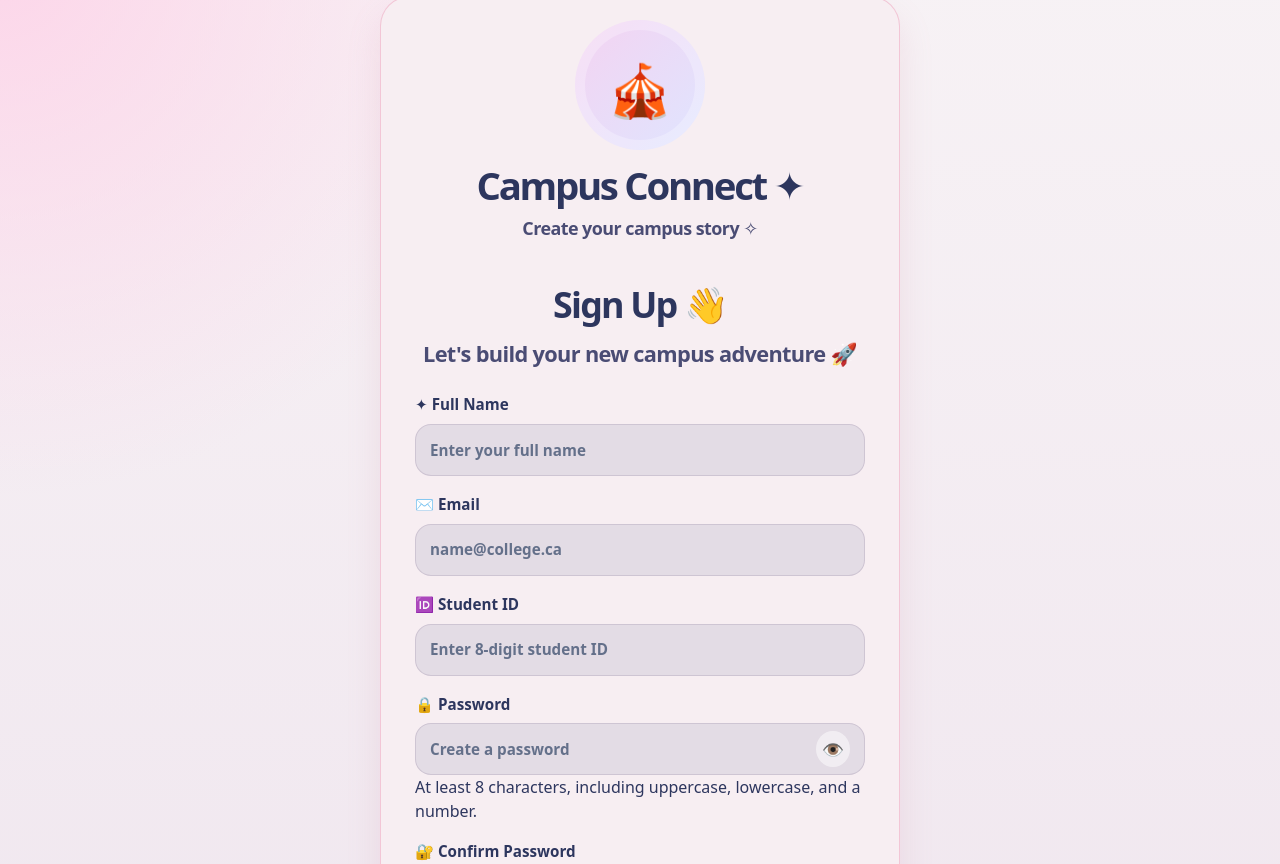
Test: SignUpPage › F3: registers a new student by submitting the completed form
Type "Mina Taherzadeh" into the field labelled "Full Name" at coordinates (640, 450), box x1=430 y1=439 x2=850 y2=461
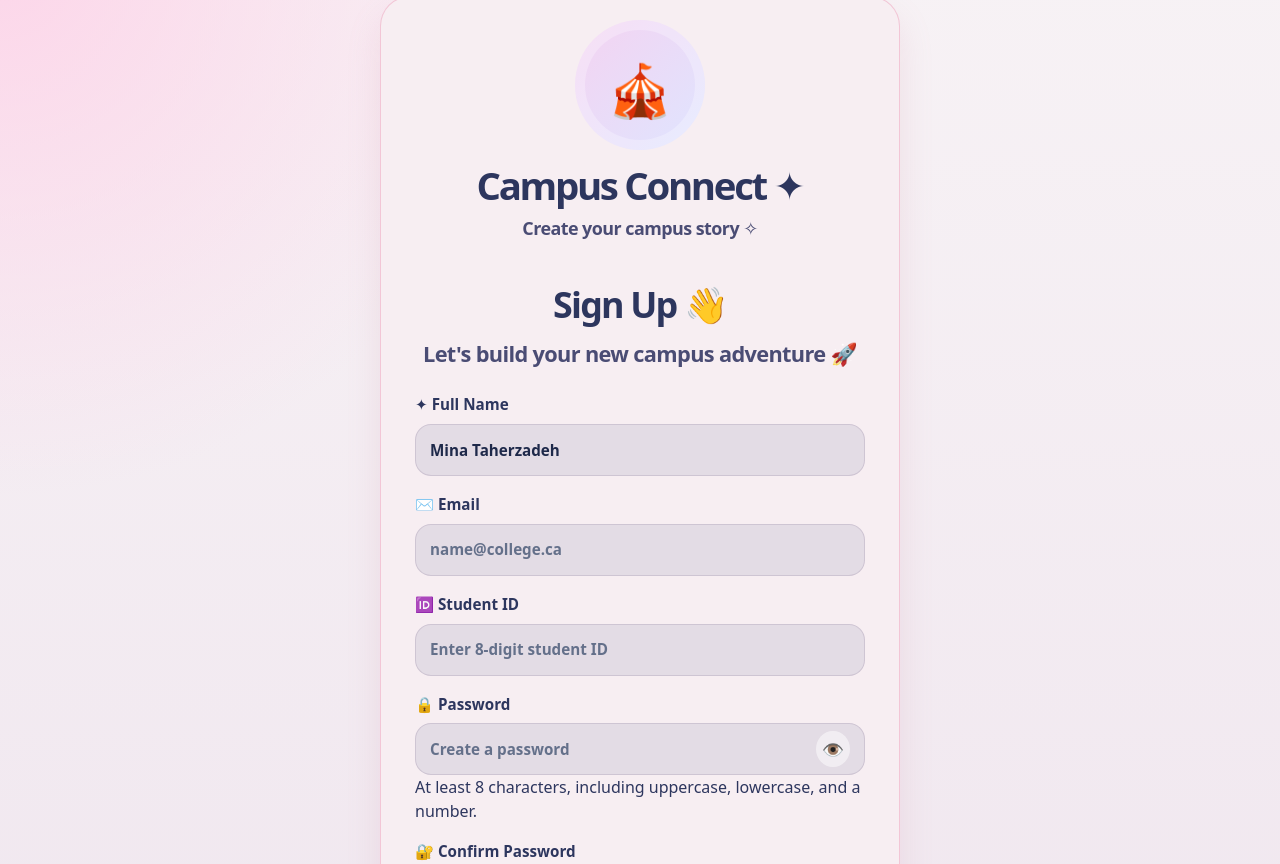
Type "Mina.taherzadeh@test.com" into the field labelled "Email" at coordinates (640, 550), box x1=430 y1=538 x2=850 y2=561
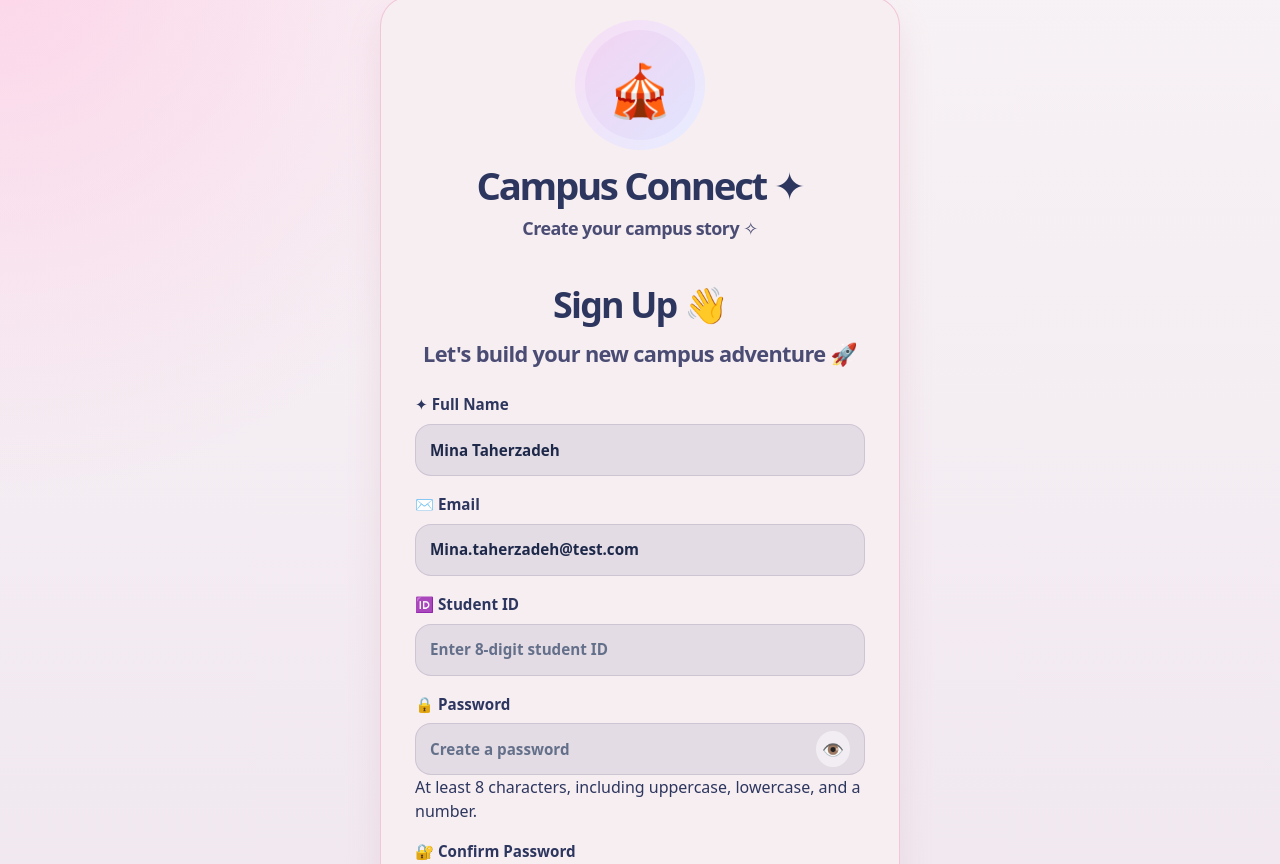
Type "00092277" into the field labelled "Student ID" at coordinates (640, 650), box x1=430 y1=638 x2=850 y2=661
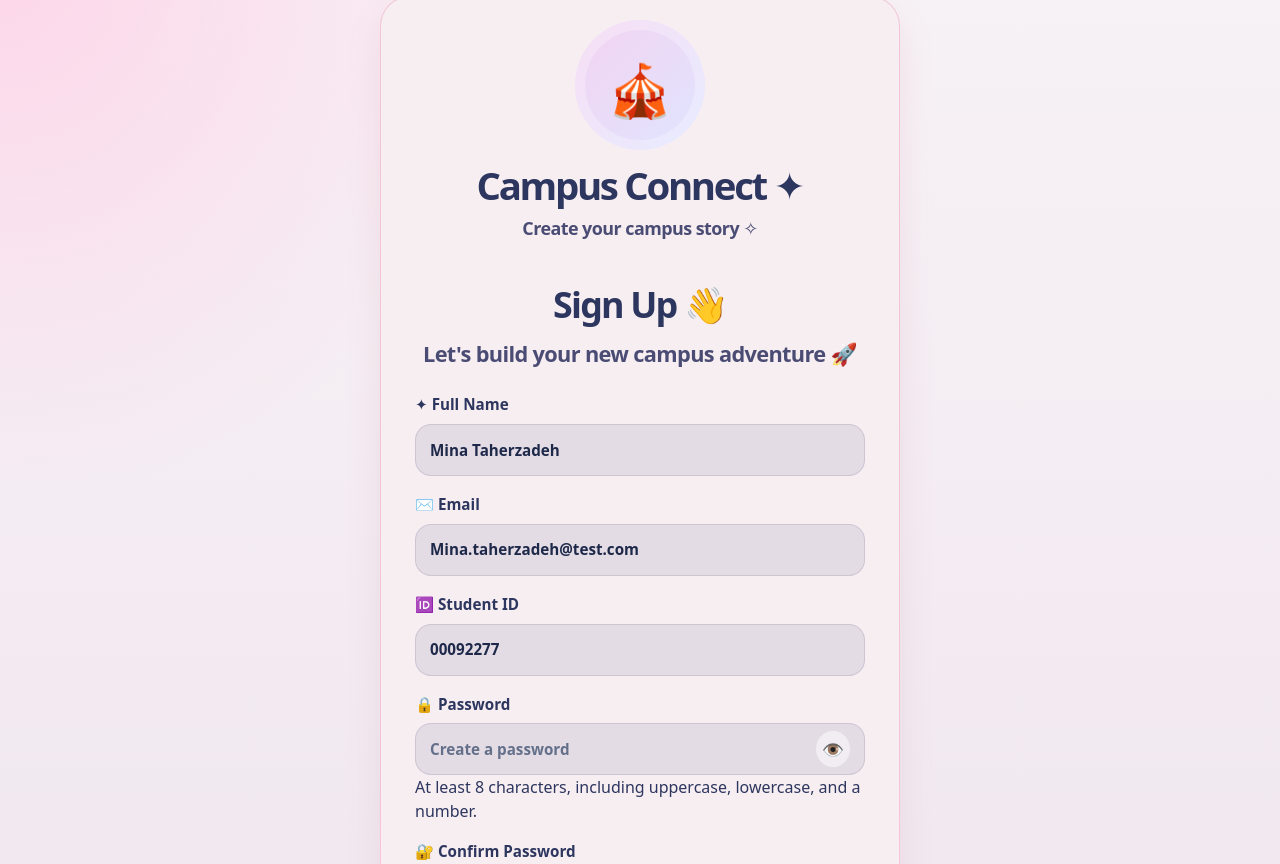
Type "Password1" into the password field labelled "Password" at coordinates (623, 749), box x1=430 y1=738 x2=816 y2=761
(page scrolled)
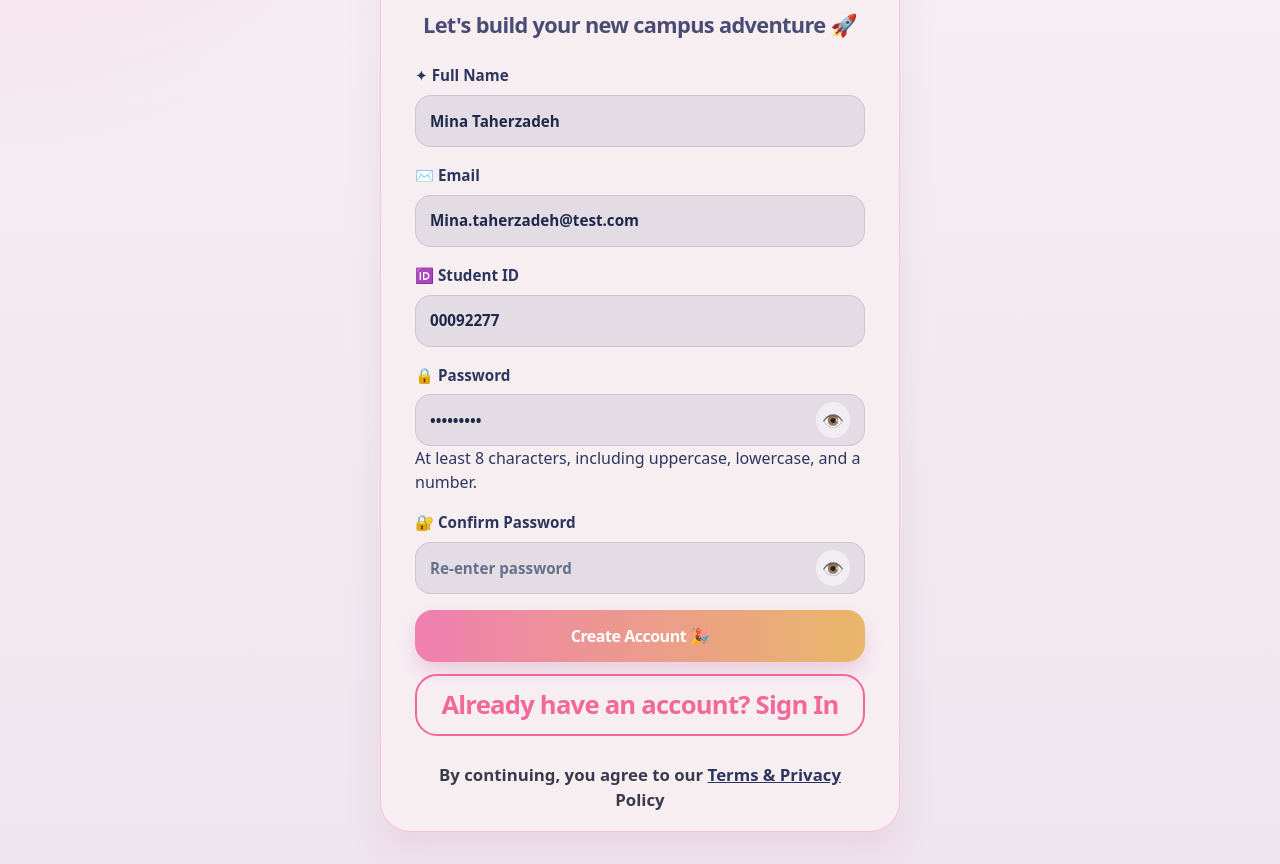
Type "Password1" into the password field labelled "Confirm Password" at coordinates (623, 568), box x1=430 y1=557 x2=816 y2=580
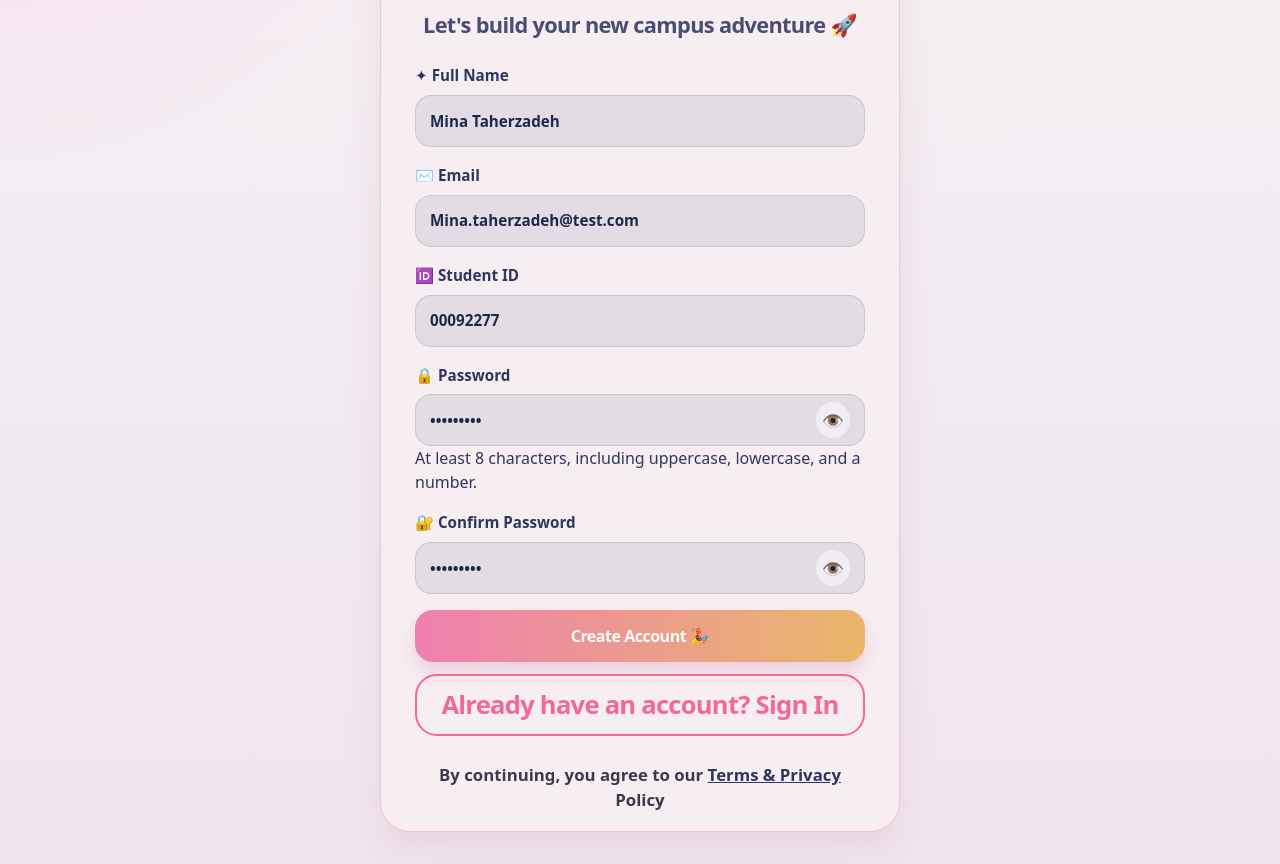
Click the button "Create Account 🎉" at coordinates (640, 636), box x1=415 y1=610 x2=865 y2=662
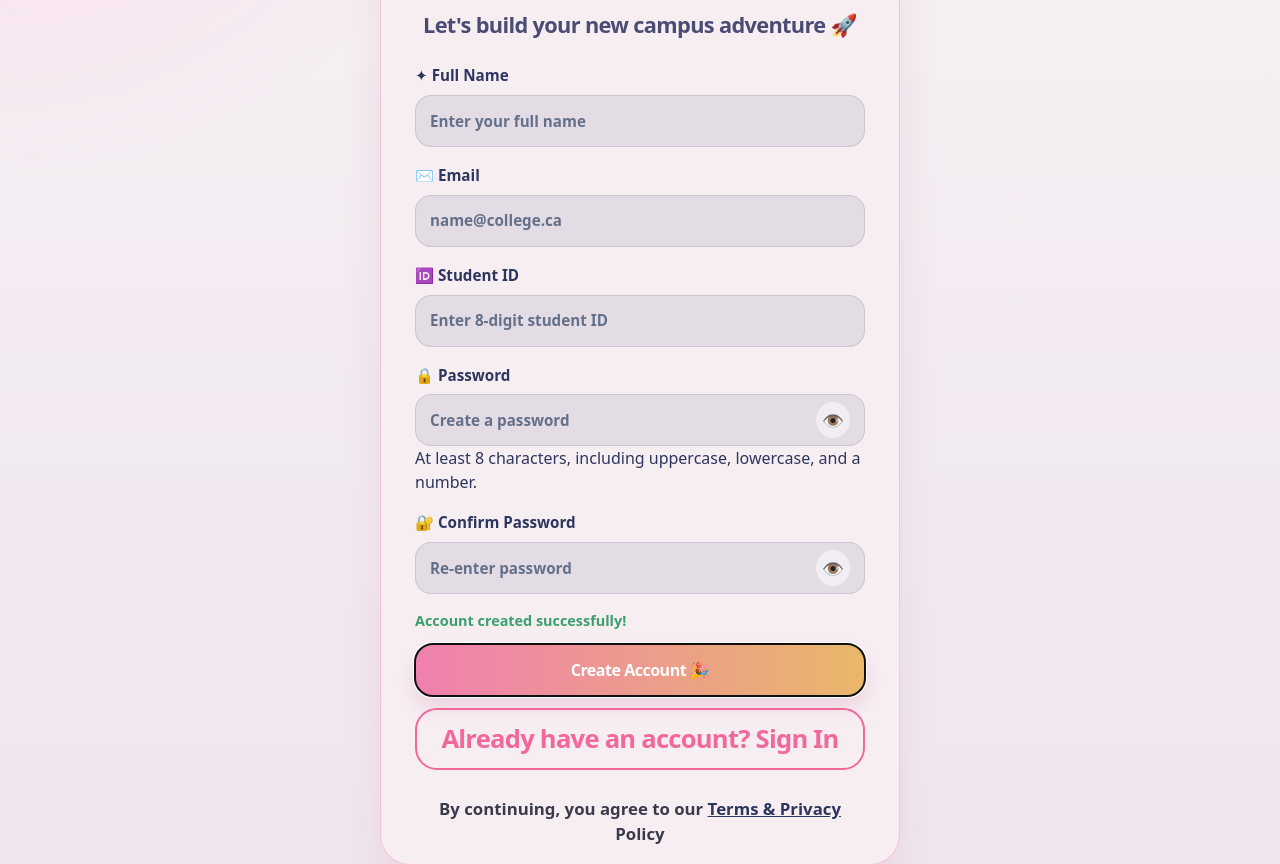
Expected: the text "Account created successfully!" is shown, x1=415 y1=611 x2=626 y2=630
